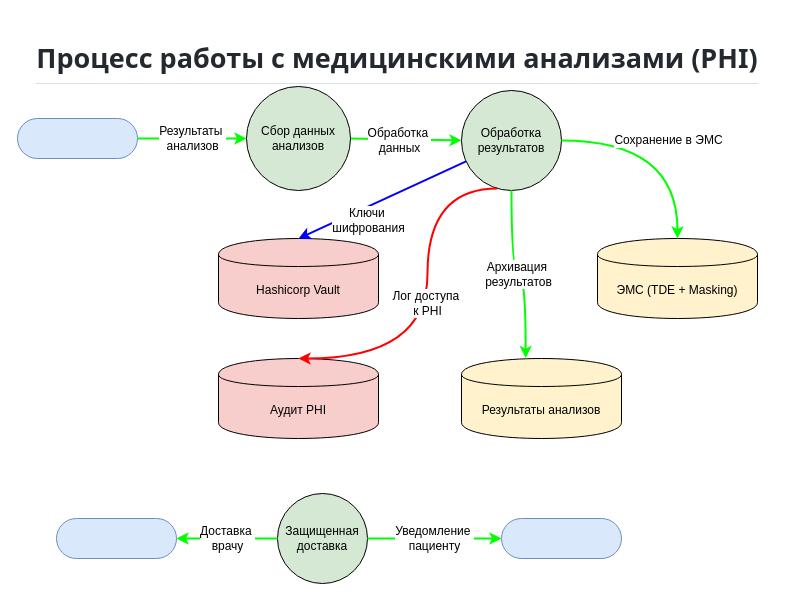
Image size: 795x601. Some labels were removed from this diagram. The centre of each missing label's shape, as x and y in pixels:
Врач: [116,538]
Лабораторное оборудование: [77,138]
Пациент: [561,538]
